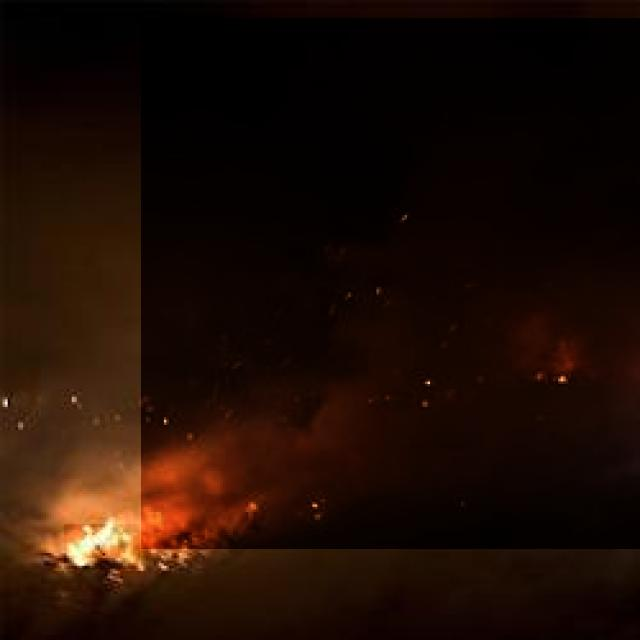Fire: (64, 524, 140, 569)
Smoke: (141, 18, 640, 549)
